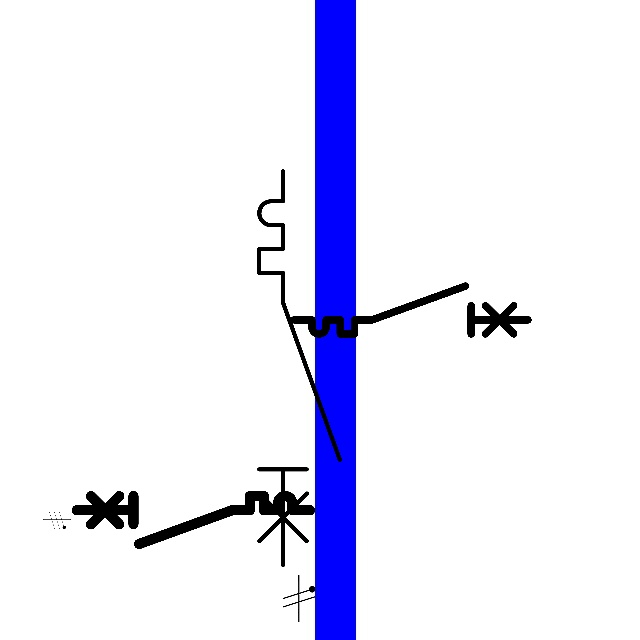interruptor_termomagnetico: (249, 161, 350, 575), (288, 280, 534, 340), (70, 490, 315, 550)
